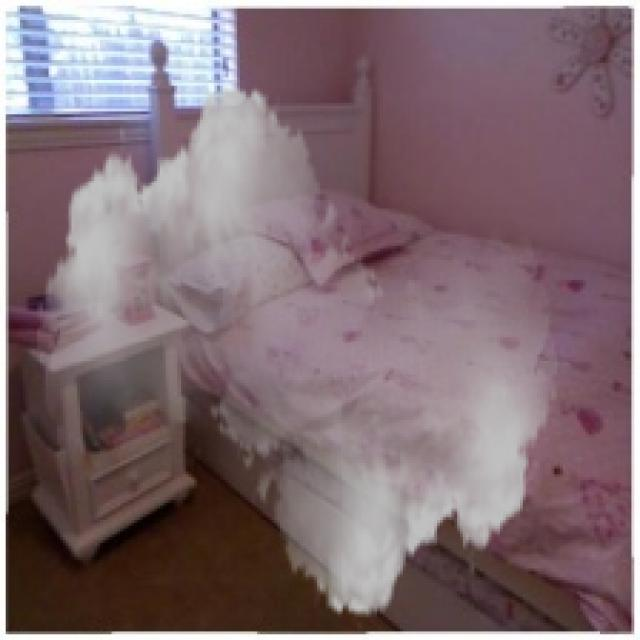smoke: (37, 69, 557, 634)
